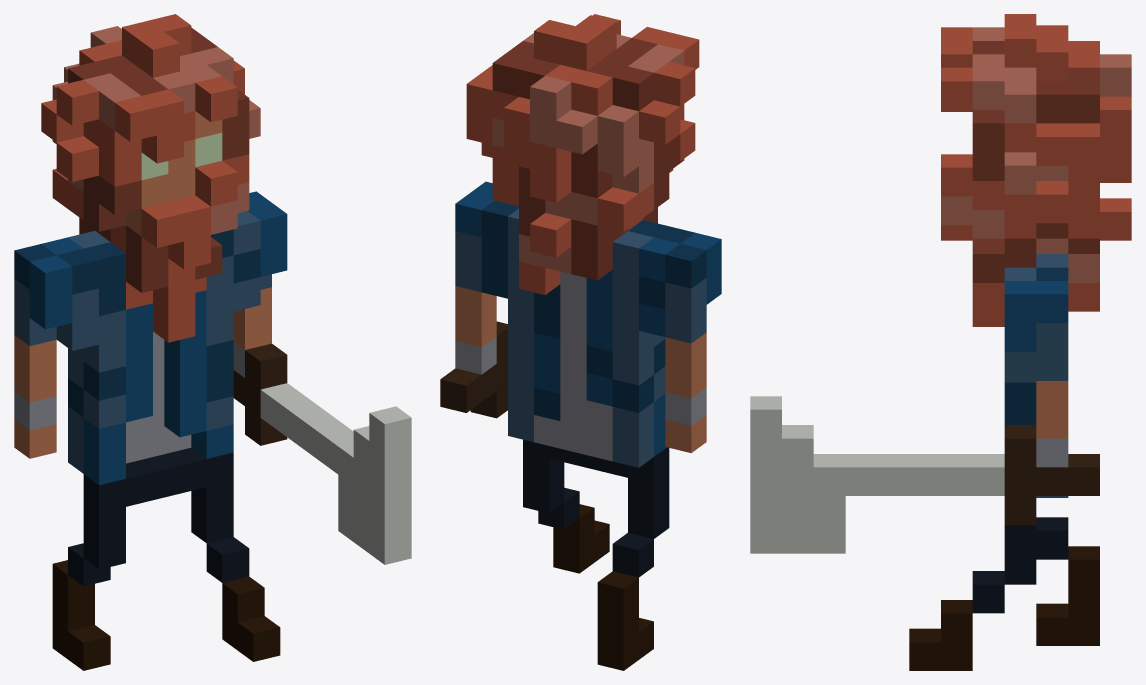
The model's file is SwingingAxeManChar-3.obj.
3 views of the same model, side by side, from view 1: azimuth 30°, elevation 25°; view 2: azimuth 150°, elevation 25°; view 3: azimuth 270°, elevation 25° (orthographic). The views are drawn at different scales.
Parts seen in each view (by area): view 1: SwingingAxeManChar-3; view 2: SwingingAxeManChar-3; view 3: SwingingAxeManChar-3.
Part boxes in pixels (x1,y1,x2,y2): SwingingAxeManChar-3: (14, 14, 411, 670); SwingingAxeManChar-3: (440, 14, 721, 670); SwingingAxeManChar-3: (750, 14, 1131, 670).
Bounding box in the file's own units: 9 × 22 × 12.
Materials: 1 (1 with a texture image).
